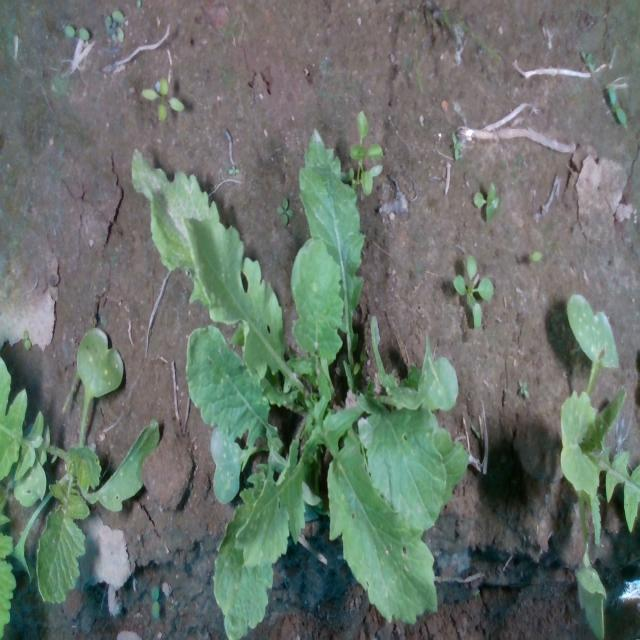weed: (137, 71, 185, 122), (471, 177, 499, 226), (607, 86, 627, 126), (276, 195, 294, 228), (60, 23, 90, 42), (579, 47, 595, 76), (450, 130, 462, 162), (150, 584, 160, 620), (518, 378, 530, 399), (22, 328, 32, 351), (227, 163, 239, 176)
